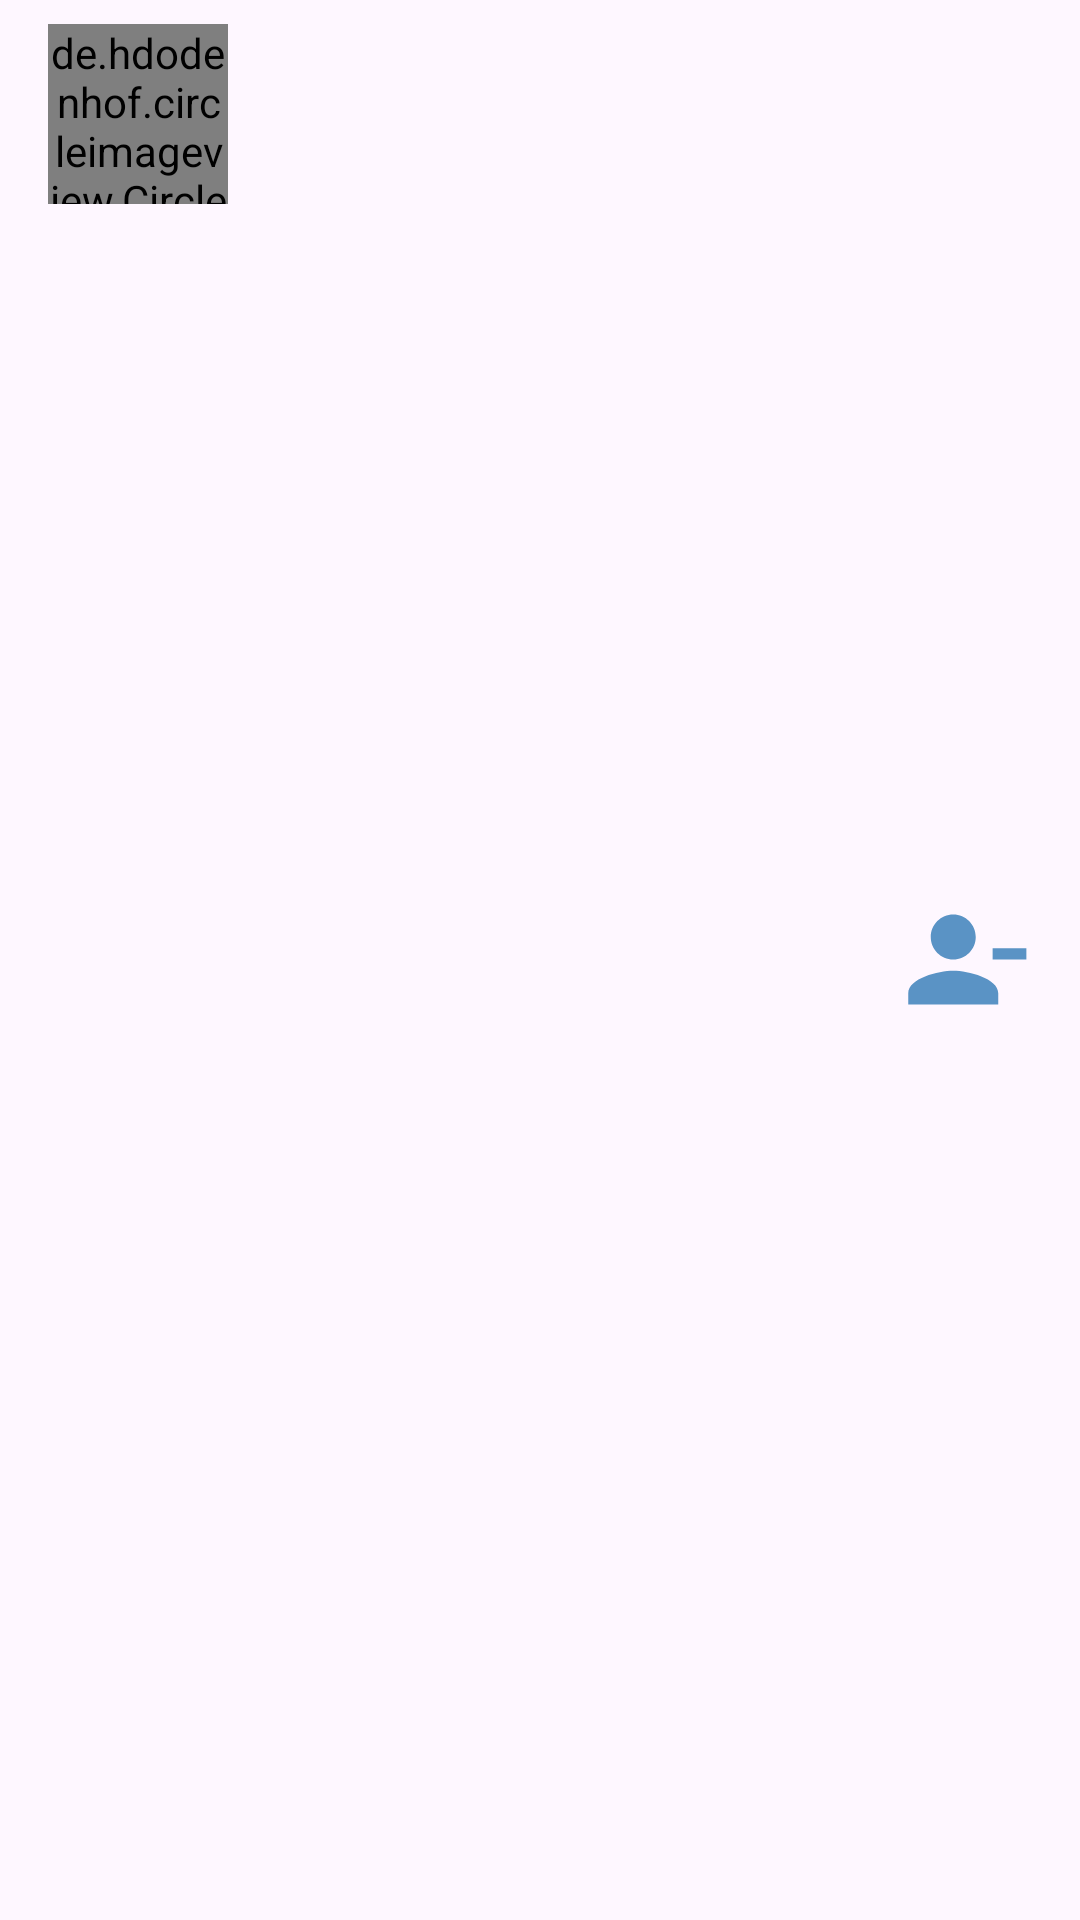

Icon click points for this 1080px x 1920px phone screenshot, format [x,y]:
Remove: [967,959]
